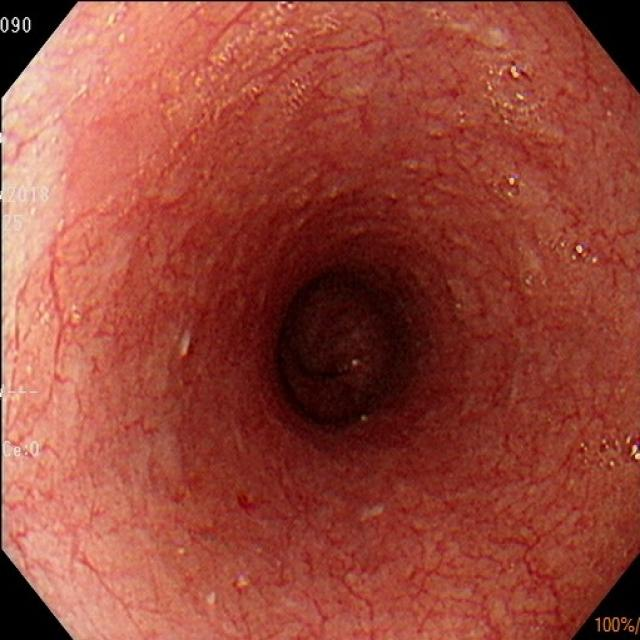A: (233, 467, 330, 534), (183, 315, 258, 381)
E: (284, 274, 407, 422)
S: (3, 185, 53, 206), (594, 615, 640, 635), (2, 383, 41, 403), (4, 441, 41, 461), (2, 206, 25, 235), (2, 15, 34, 35)
T: (516, 237, 601, 296), (485, 58, 542, 123), (577, 435, 640, 473)
